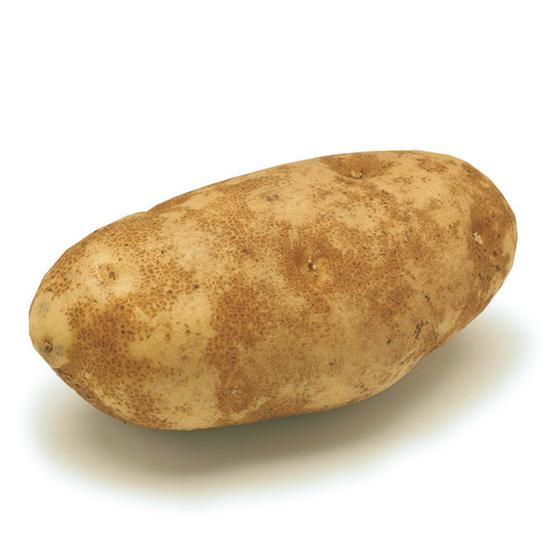potato: (32, 144, 524, 435)
